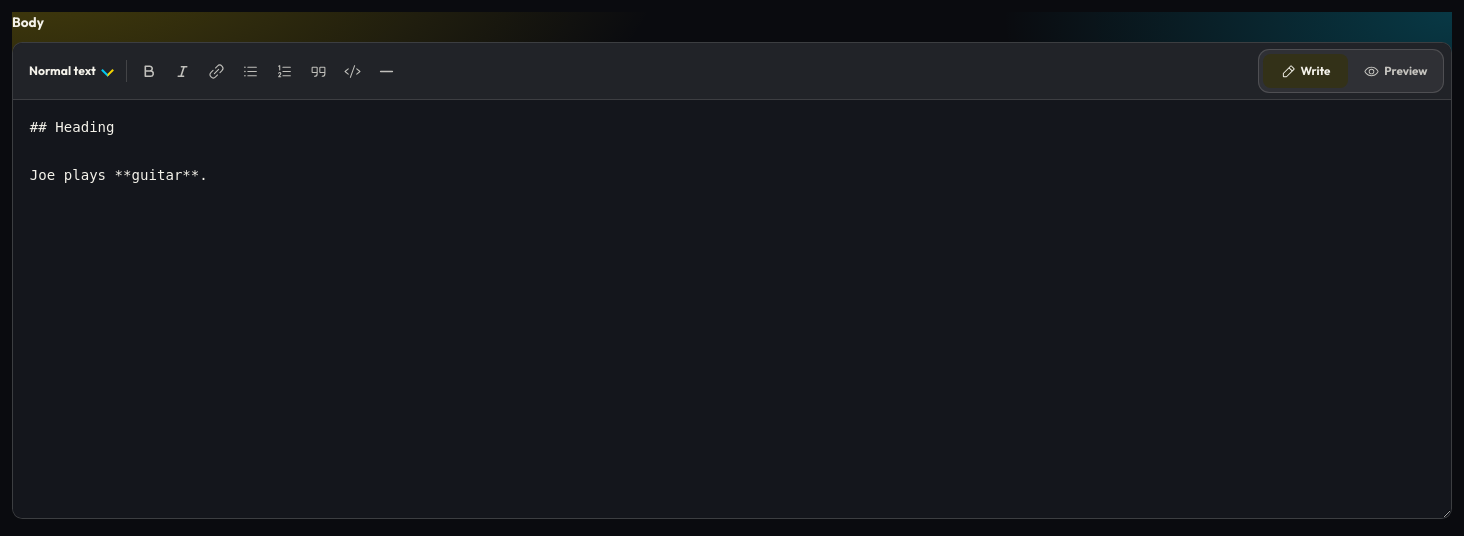
Scenario: previews the body through the same renderer the site uses
Click the tab "Preview" at (1396, 71), box [1353, 54, 1439, 88]
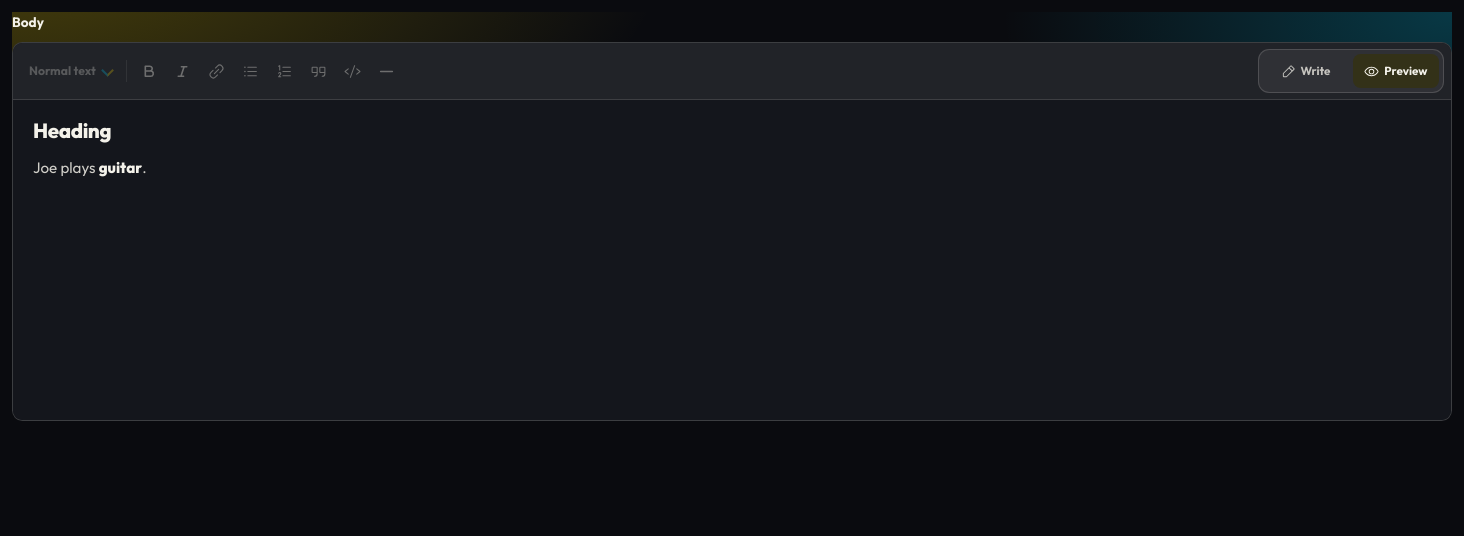
expect the text "**guitar**" is not shown: met
expect the heading "Heading" is shown: met, box [33, 117, 111, 143]
